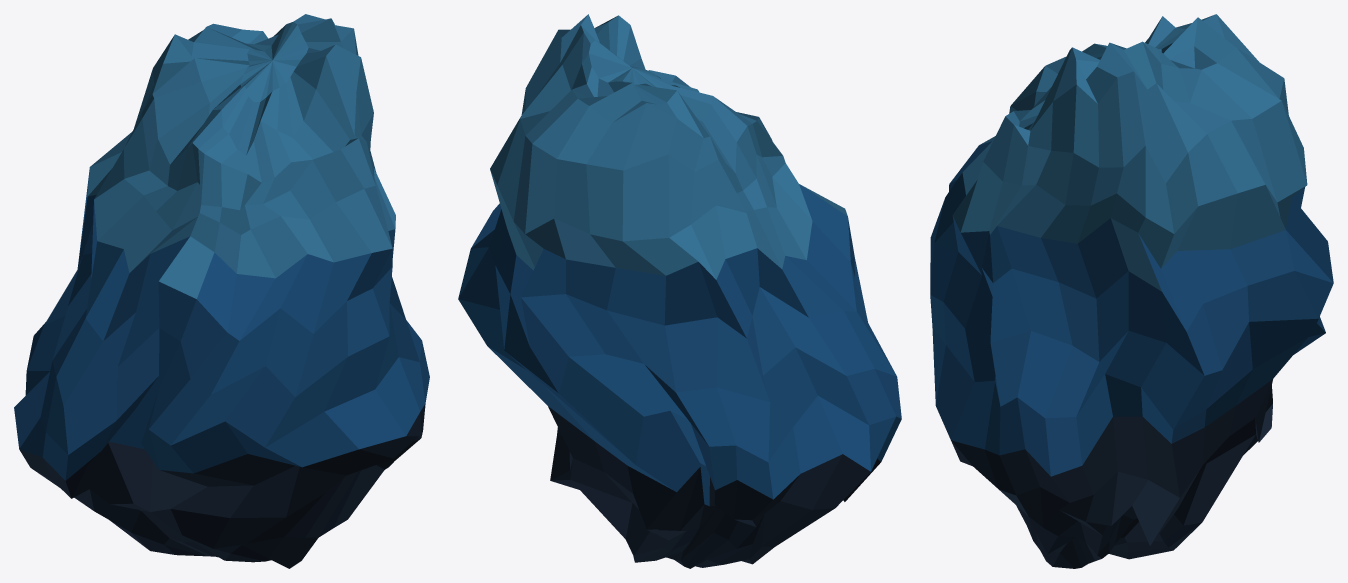
The model's file is rock003.FBX.
3 views of the same model, side by side, from view 1: azimuth 30°, elevation 25°; view 2: azimuth 150°, elevation 25°; view 3: azimuth 270°, elevation 25° (orthographic). The views are drawn at different scales.
Parts seen in each view (by area): view 1: rock_003; view 2: rock_003; view 3: rock_003.
Boxes of the visible parts, x1,y1,x2,y2 form: rock_003: [14, 14, 429, 568]; rock_003: [458, 14, 901, 568]; rock_003: [930, 14, 1333, 568].
Bounding box in the file's own units: 13.89 × 18.07 × 11.83.
